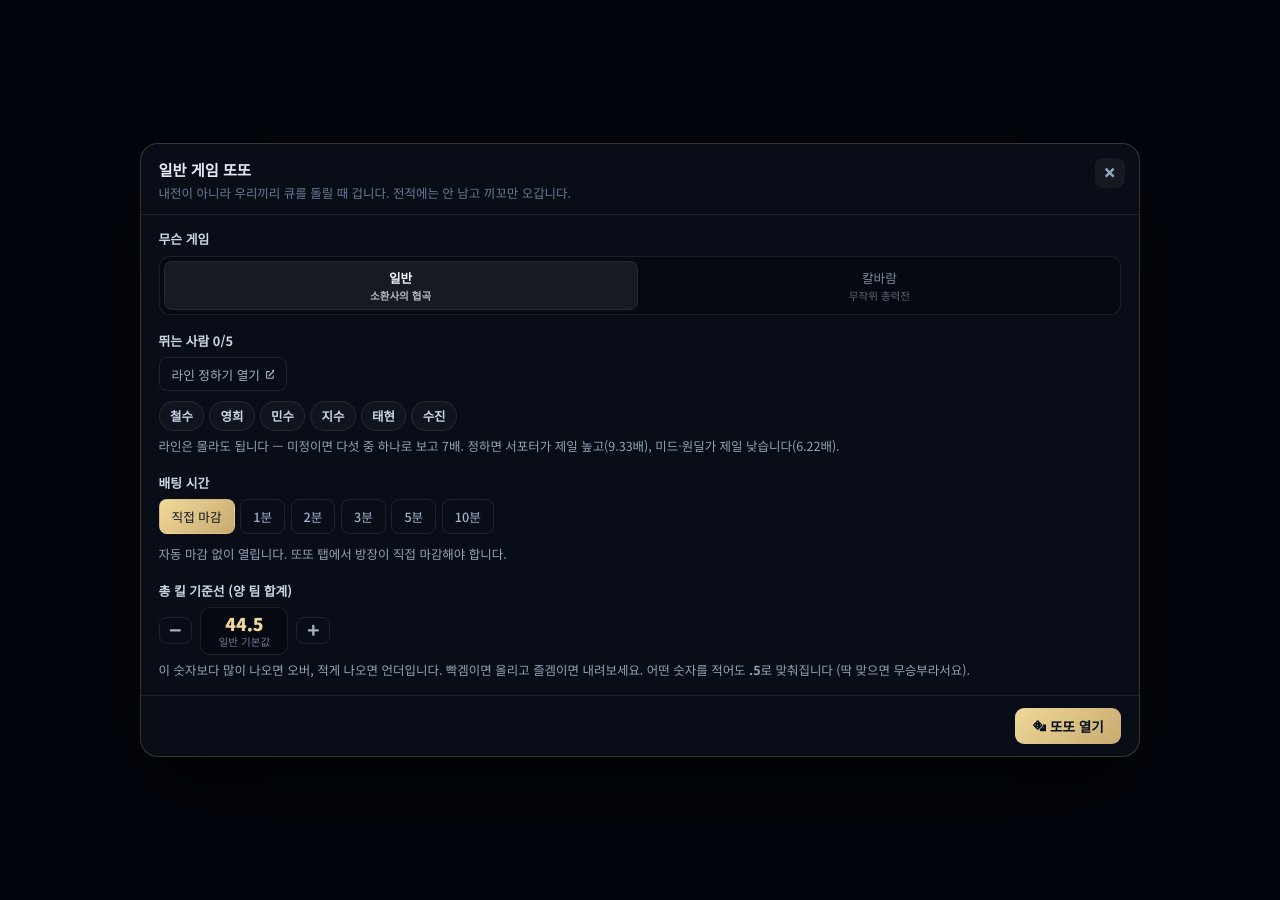
라인은 미정으로 시작한다
Click the button with class "casual-chip" showing "철수": (181, 416) x1=159 y1=401 x2=204 y2=431
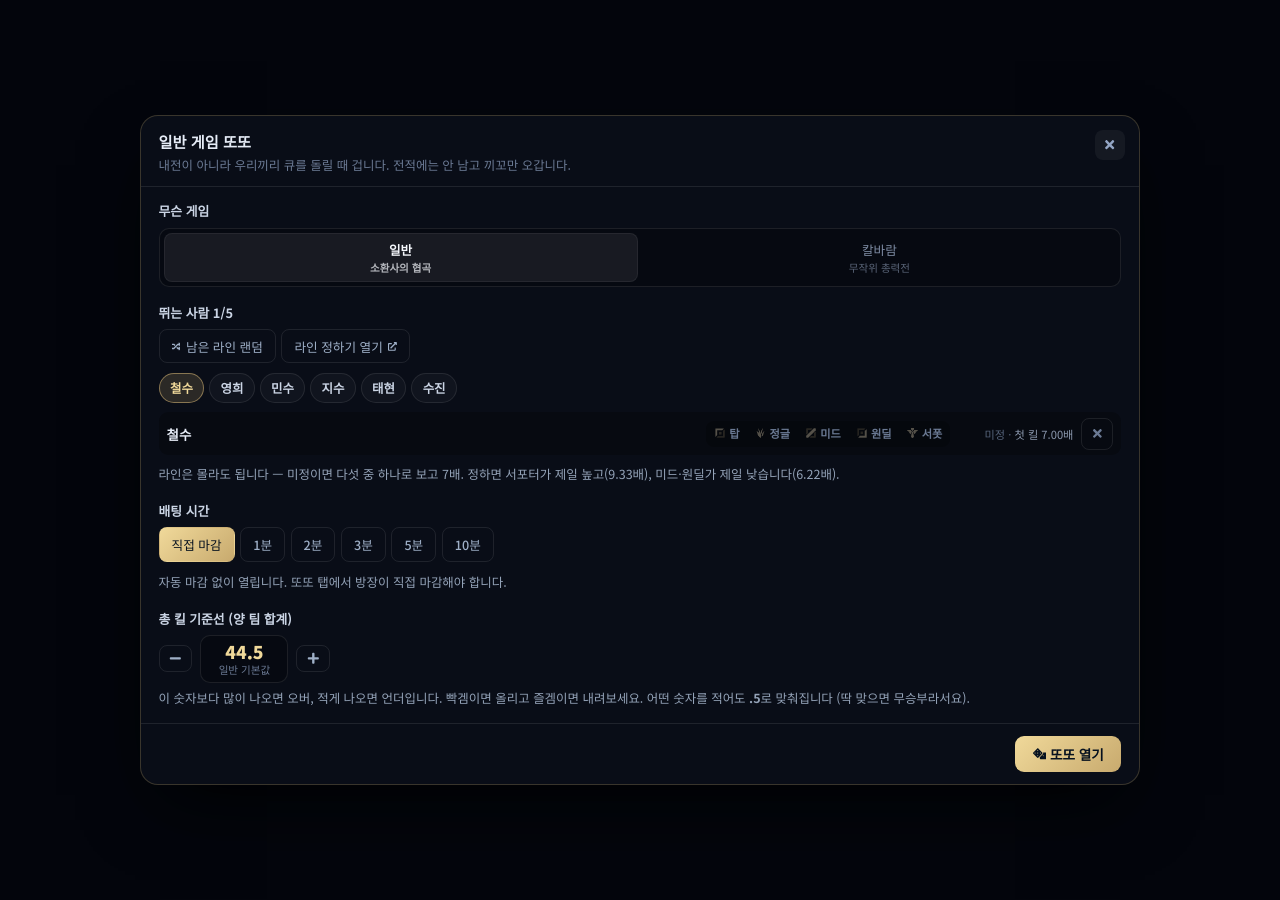
Result: the list item "철수 탑 정글 미드 원딜 서폿 미정 · 첫 킬 7.00배" is shown at x1=159 y1=412 x2=1121 y2=455
